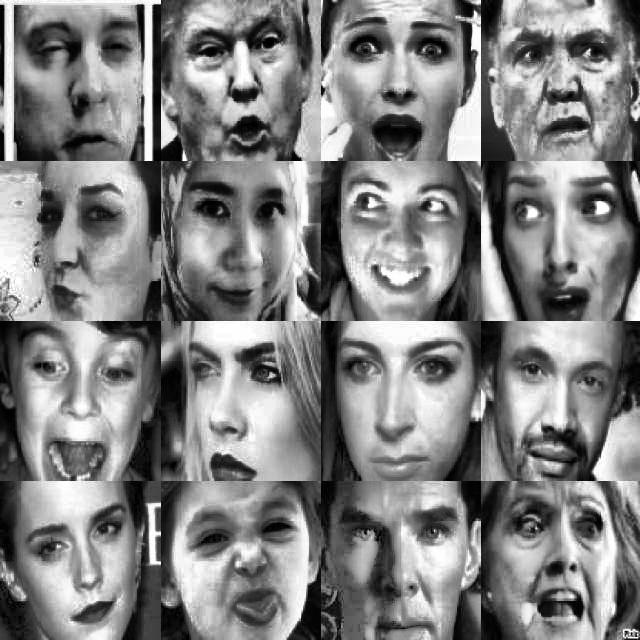angry: (495, 20, 632, 152), (514, 486, 628, 640), (183, 12, 311, 143)
fear: (495, 165, 639, 307), (336, 15, 470, 152), (343, 501, 470, 640)
happy: (170, 175, 316, 311), (339, 171, 476, 307), (15, 336, 151, 472), (182, 501, 316, 635), (21, 178, 147, 310)
neutral: (333, 344, 473, 486), (27, 23, 143, 166), (500, 336, 614, 479), (21, 513, 143, 630), (185, 339, 294, 465)
